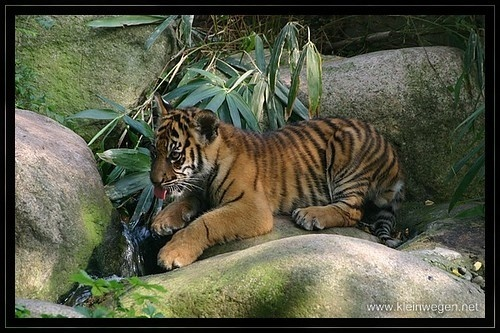tigre: (146, 96, 412, 274)
